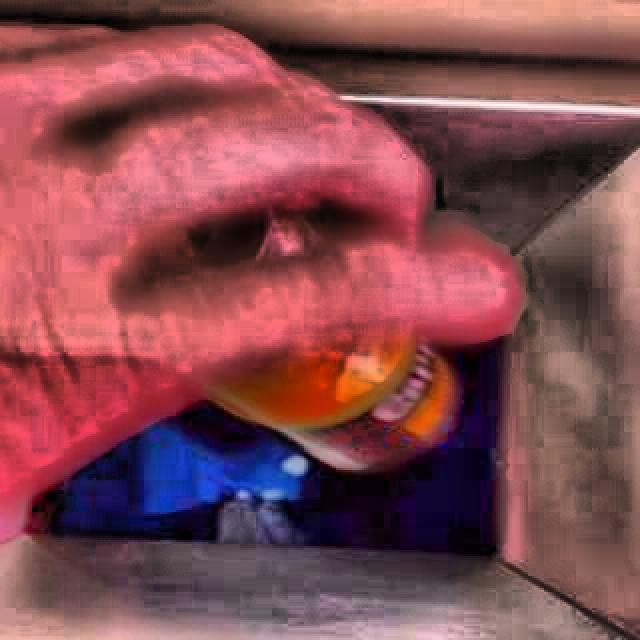metal: (211, 338, 459, 473)
